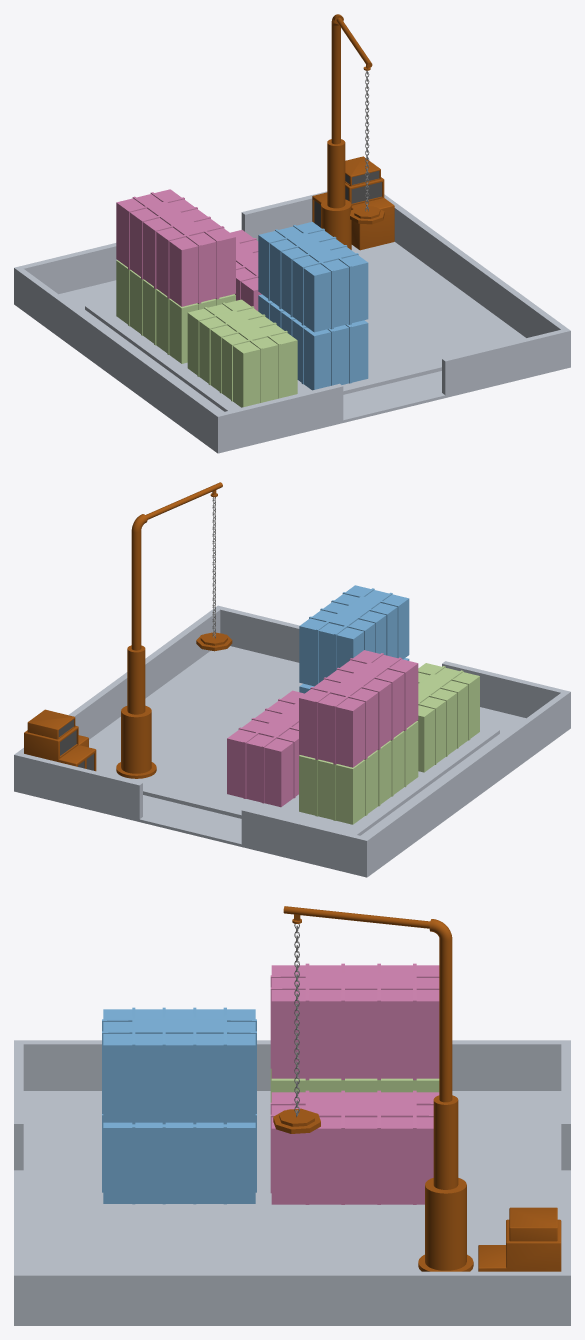
File: industrial-buildings-inconstruction-warehouse.fbx
3 views of the same model, one above another, from view 1: azimuth 30°, elevation 25°; view 2: azimuth 150°, elevation 25°; view 3: azimuth 270°, elevation 25° (orthographic). The views are drawn at different scales.
Visible parts, largest first — view 1: industrial-buildings-warehouse, ib-warehouse-crane; view 2: industrial-buildings-warehouse, ib-warehouse-crane, ib-warehouse-crane-chain-claw; view 3: industrial-buildings-warehouse, ib-warehouse-crane, ib-warehouse-crane-chain-claw, ib-warehouse-crane-chain.
Part boxes in pixels (x1,y1,x2,y2): industrial-buildings-warehouse: (14,156,570,453); ib-warehouse-crane: (321,14,372,249); industrial-buildings-warehouse: (14,585,570,877); ib-warehouse-crane: (116,482,222,778); ib-warehouse-crane-chain-claw: (196,632,232,651); industrial-buildings-warehouse: (14,963,570,1325); ib-warehouse-crane: (283,906,473,1271); ib-warehouse-crane-chain-claw: (273,1108,320,1133); ib-warehouse-crane-chain: (294,923,299,1117).
Size of the model in its own units: 28.11 by 19.7 by 28.11.
